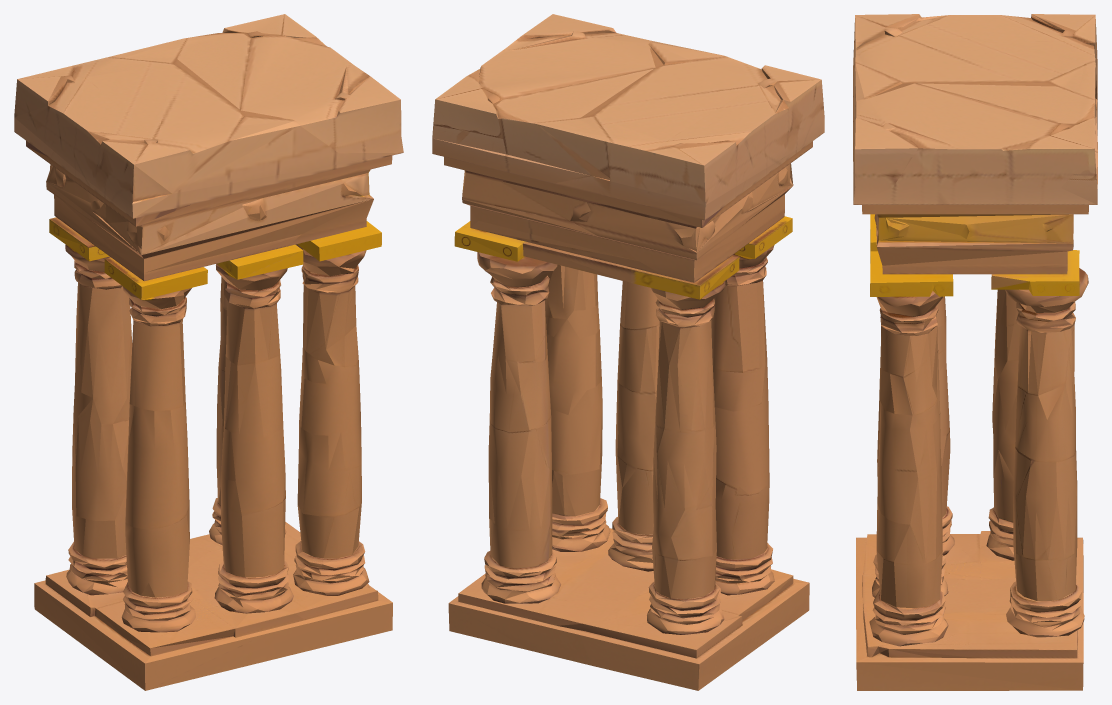
File: pillar-desert.glb
The picture shows the model from 3 angles, left to right: view 1: azimuth 30°, elevation 25°; view 2: azimuth 150°, elevation 25°; view 3: azimuth 270°, elevation 25°; orthographic projection. The views are drawn at different scales.
Bounding box in the file's own units: 1.01 × 1.9 × 0.7686.
1 material, 1 textured.
